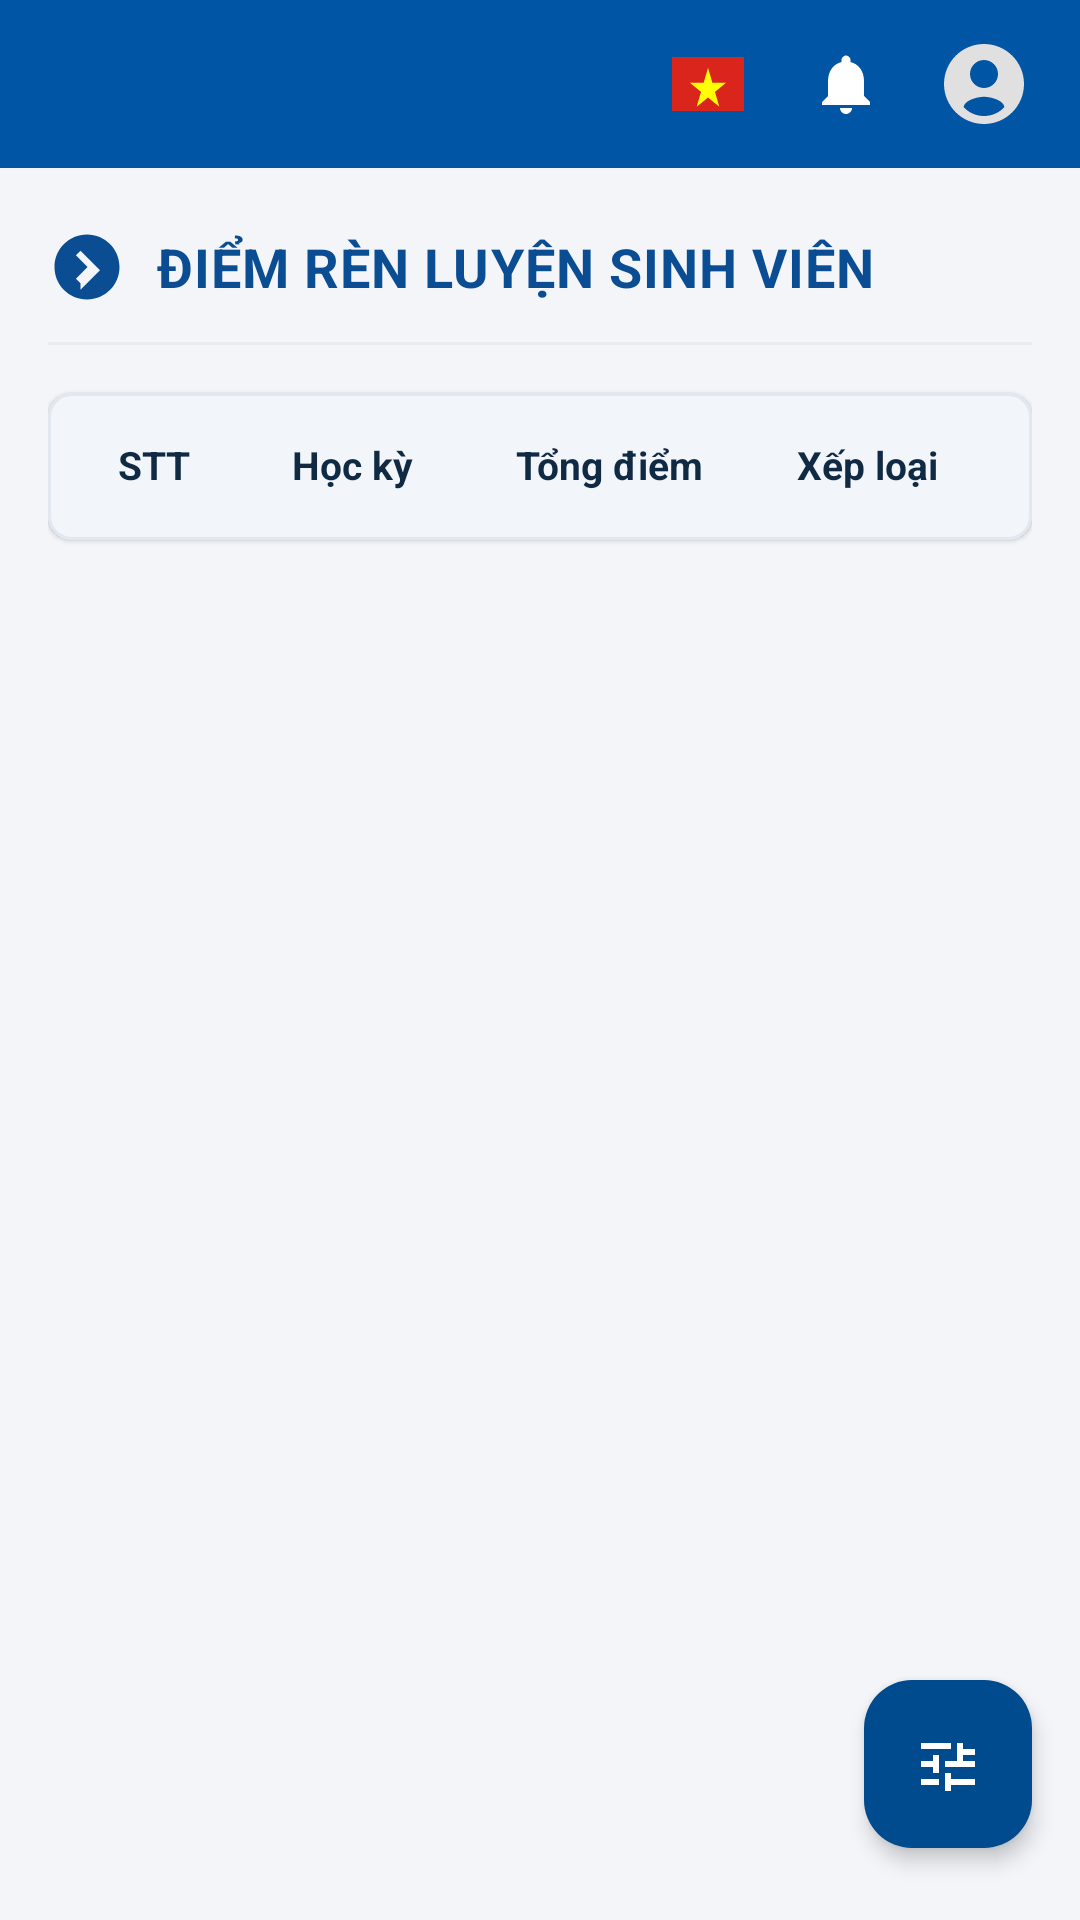

Icon bounding boxes for this 1080x1920 phone screenshot, format (x1, y1, x2, y2):
account: (944, 44, 1024, 124)
arrow circle right: (54, 234, 120, 300)
bell: (822, 55, 870, 114)
flag vn: (672, 57, 744, 111)
tune fab: (864, 1680, 1032, 1848)
